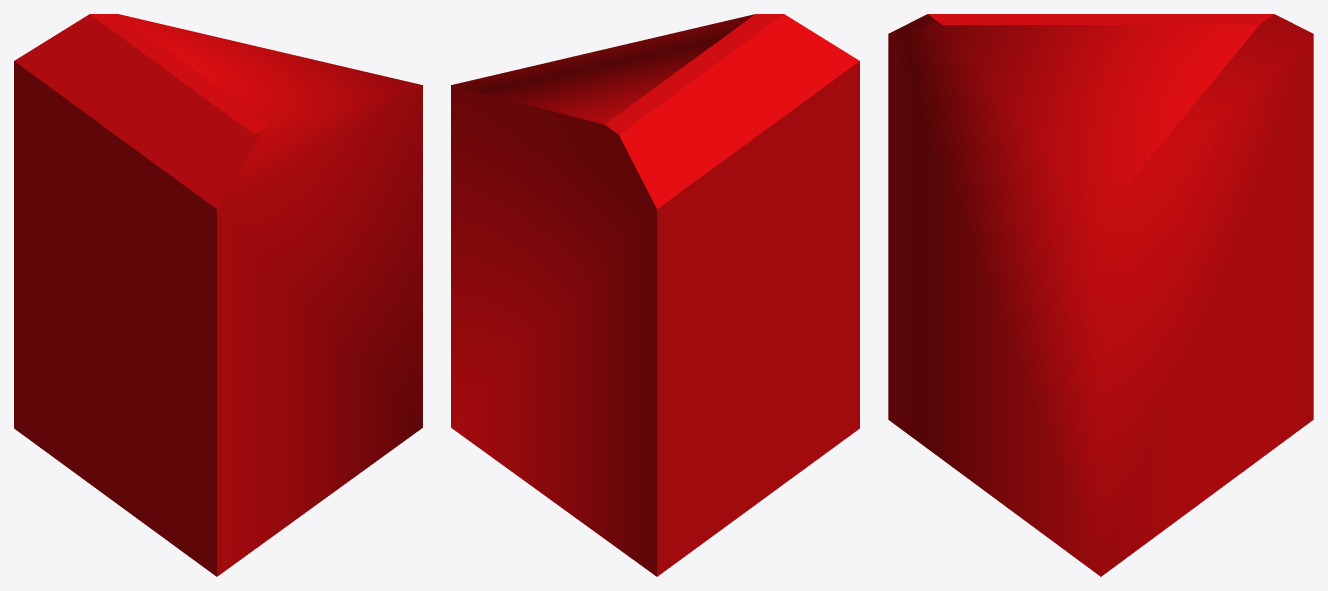
The model's file is Armour_PIE.fbx.
3 renders of one model, left to right at view 1: azimuth 30°, elevation 25°; view 2: azimuth 150°, elevation 25°; view 3: azimuth 270°, elevation 25°, orthographic. The views are drawn at different scales.
Parts seen in each view (by area): view 1: SM_Module_TurretBase_BO.001; view 2: SM_Module_TurretBase_BO.001; view 3: SM_Module_TurretBase_BO.001.
Part boxes in pixels (x1,y1,x2,y2): SM_Module_TurretBase_BO.001: (14, 14, 422, 576); SM_Module_TurretBase_BO.001: (451, 14, 859, 576); SM_Module_TurretBase_BO.001: (888, 14, 1313, 576).
Bounding box in the file's own units: 175 × 225 × 200.
